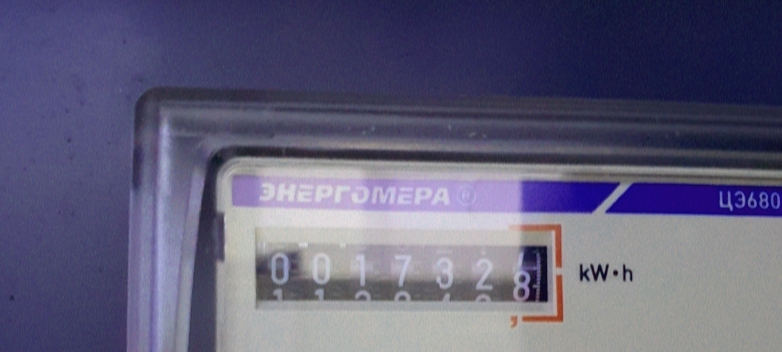0: (270, 249, 292, 285), (312, 250, 332, 284)
1: (355, 250, 370, 286)
2: (474, 256, 494, 292)
3: (434, 255, 456, 290)
7: (391, 250, 415, 288)
8: (512, 267, 531, 302)
screen: (246, 224, 568, 324)
